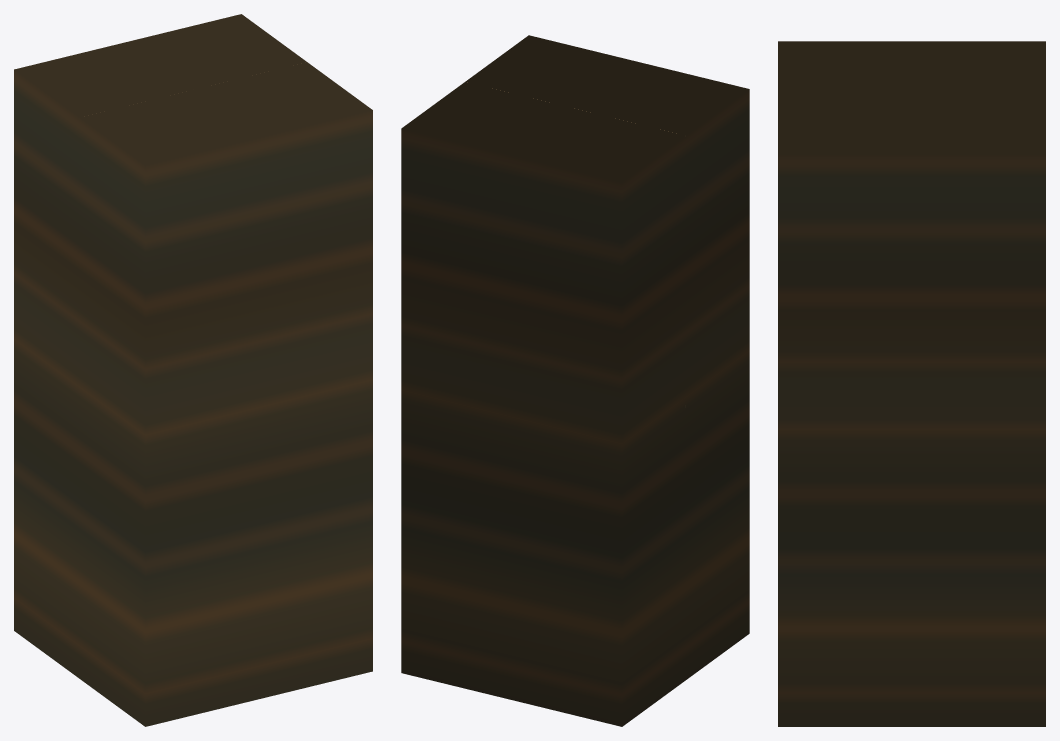
The model's file is trap_t10_searchlight_tower.glb.
The picture shows the model from 3 angles, left to right: view 1: azimuth 30°, elevation 25°; view 2: azimuth 150°, elevation 25°; view 3: azimuth 270°, elevation 25°; orthographic projection. The views are drawn at different scales.
Visible parts, largest first — view 1: trap_t10_searchlight_tower; view 2: trap_t10_searchlight_tower; view 3: trap_t10_searchlight_tower.
Part boxes in pixels (left/top/right/bottom): trap_t10_searchlight_tower: left=14, top=14, right=372, bottom=726; trap_t10_searchlight_tower: left=401, top=35, right=749, bottom=726; trap_t10_searchlight_tower: left=778, top=41, right=1045, bottom=726.
Bounding box in the file's own units: 0.7 × 1.77 × 0.7.
Materials: 1 (1 with a texture image).
